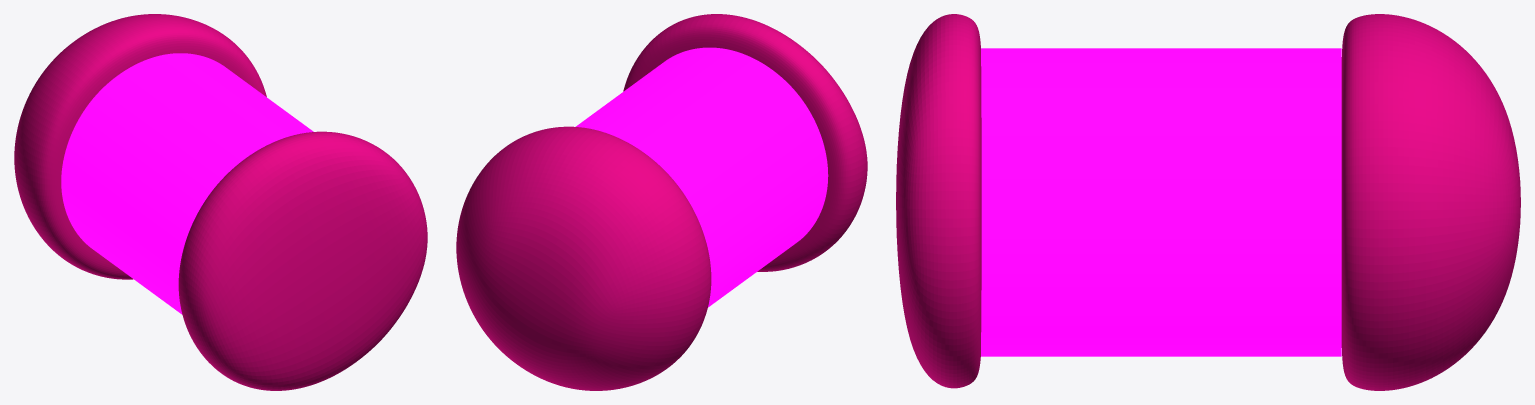
Rendered from OrbeRosa.fbx.
3 views of the same model, side by side, from view 1: azimuth 30°, elevation 25°; view 2: azimuth 150°, elevation 25°; view 3: azimuth 270°, elevation 25° (orthographic). The views are drawn at different scales.
Parts seen in each view (by area): view 1: Cubo; view 2: Cubo; view 3: Cubo.
Part boxes in pixels (x1,y1,x2,y2): Cubo: [14, 14, 427, 390]; Cubo: [456, 14, 867, 390]; Cubo: [896, 14, 1520, 390].
Bounding box in the file's own units: 23.91 × 23.93 × 39.58.
